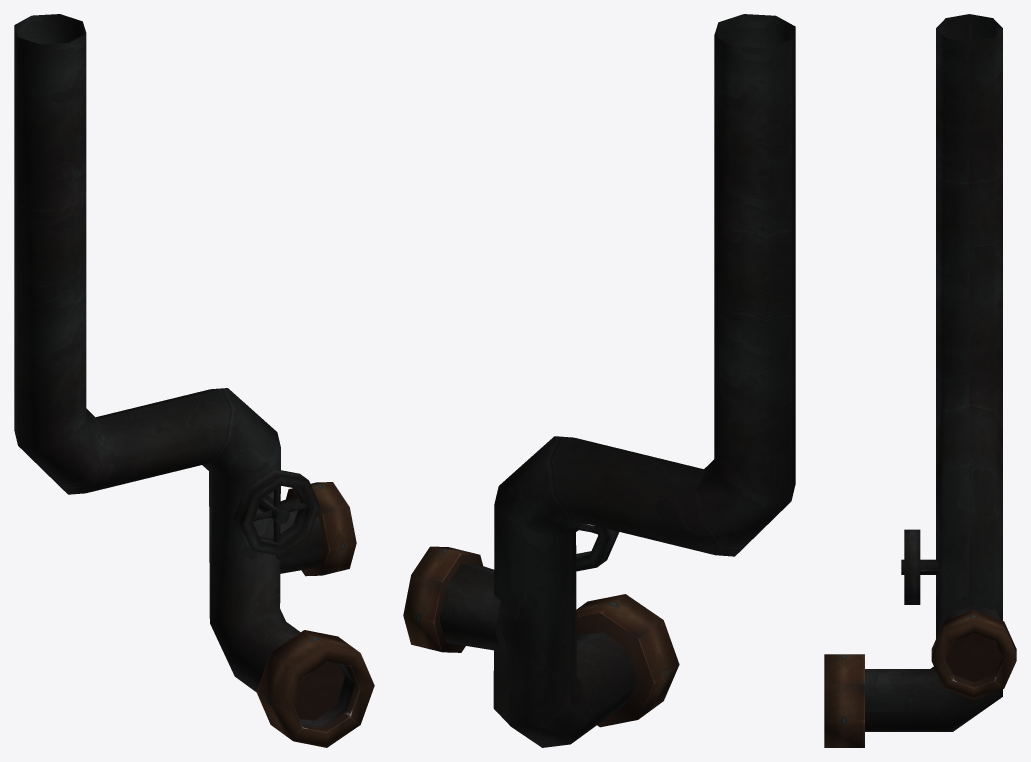
File: sewer_pipe004.FBX
3 renders of one model, left to right at view 1: azimuth 30°, elevation 25°; view 2: azimuth 150°, elevation 25°; view 3: azimuth 270°, elevation 25°, orthographic. The views are drawn at different scales.
Parts seen in each view (by area): view 1: sewer_pipe004; view 2: sewer_pipe004; view 3: sewer_pipe004.
Part boxes in pixels (<box>): sewer_pipe004: <box>14,14,374,747</box>; sewer_pipe004: <box>403,14,795,747</box>; sewer_pipe004: <box>824,14,1016,747</box>.
Size of the model in its own units: 751 by 1598 by 440.
